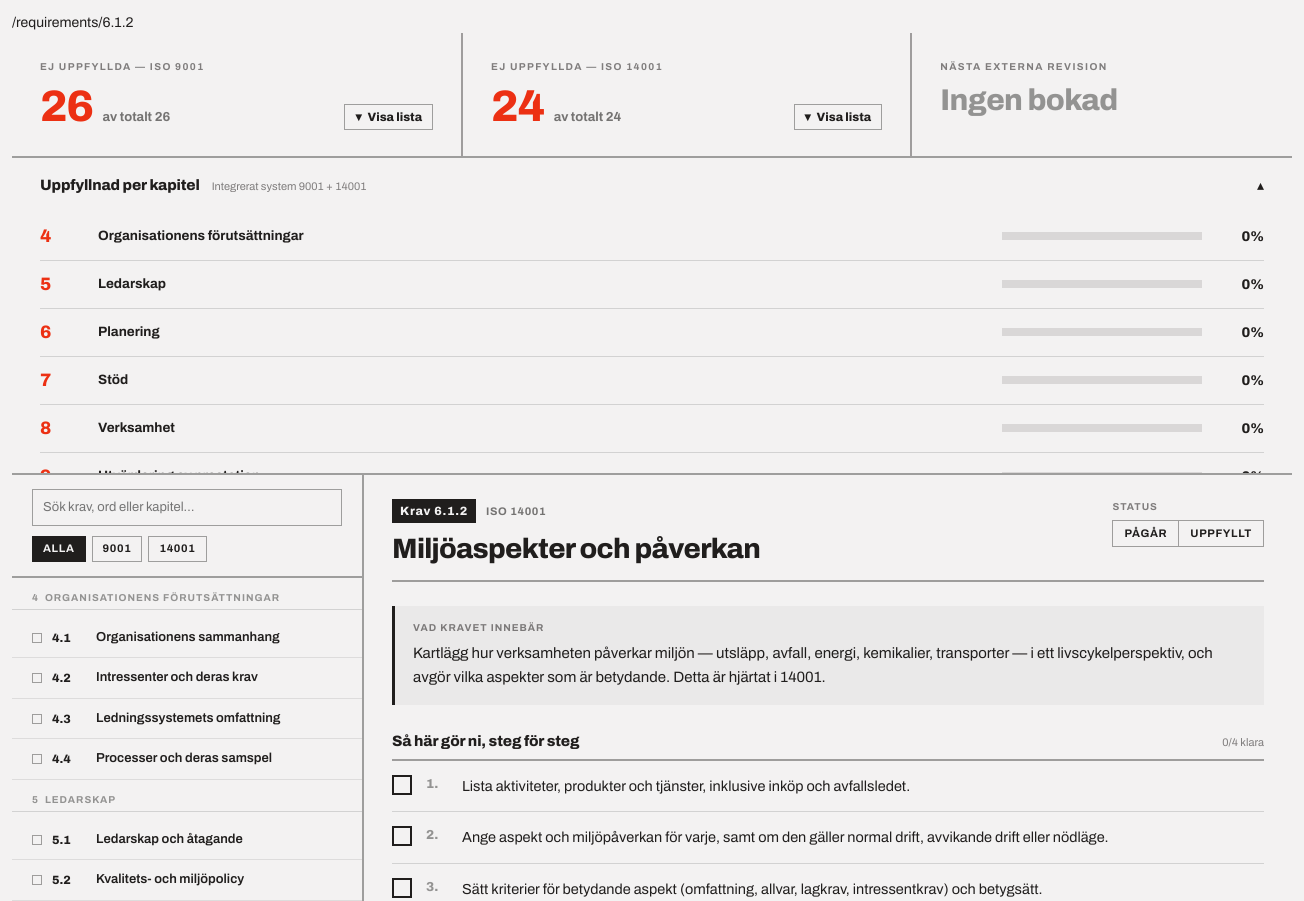
Test case: the requirement walkthrough › says so when nothing matches
Type "zzzzz" into the search field. click: point(187, 508)
box: [32, 489, 342, 526]
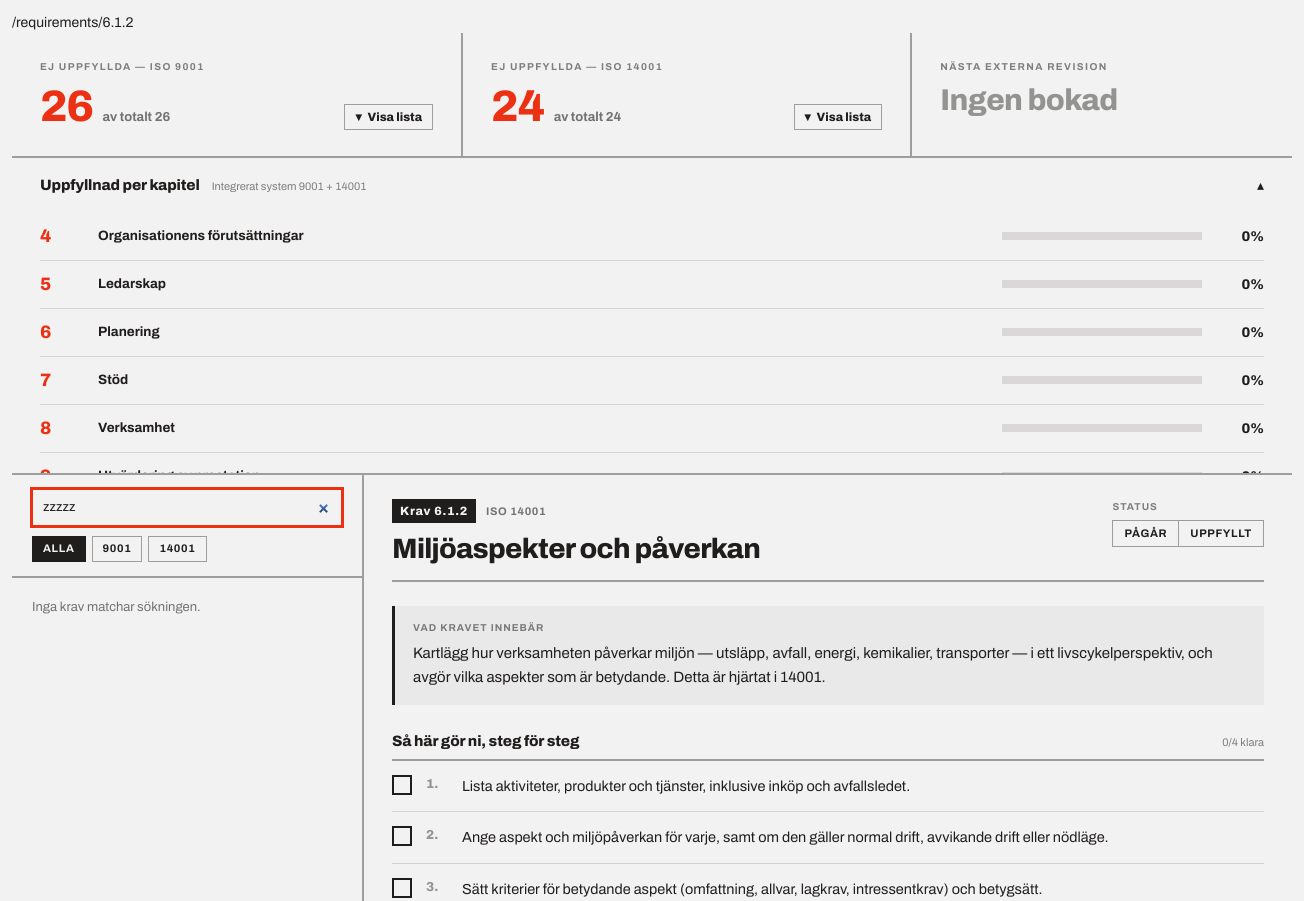
Check: the text "Inga krav matchar sökningen." is shown, box [32, 600, 201, 614]
